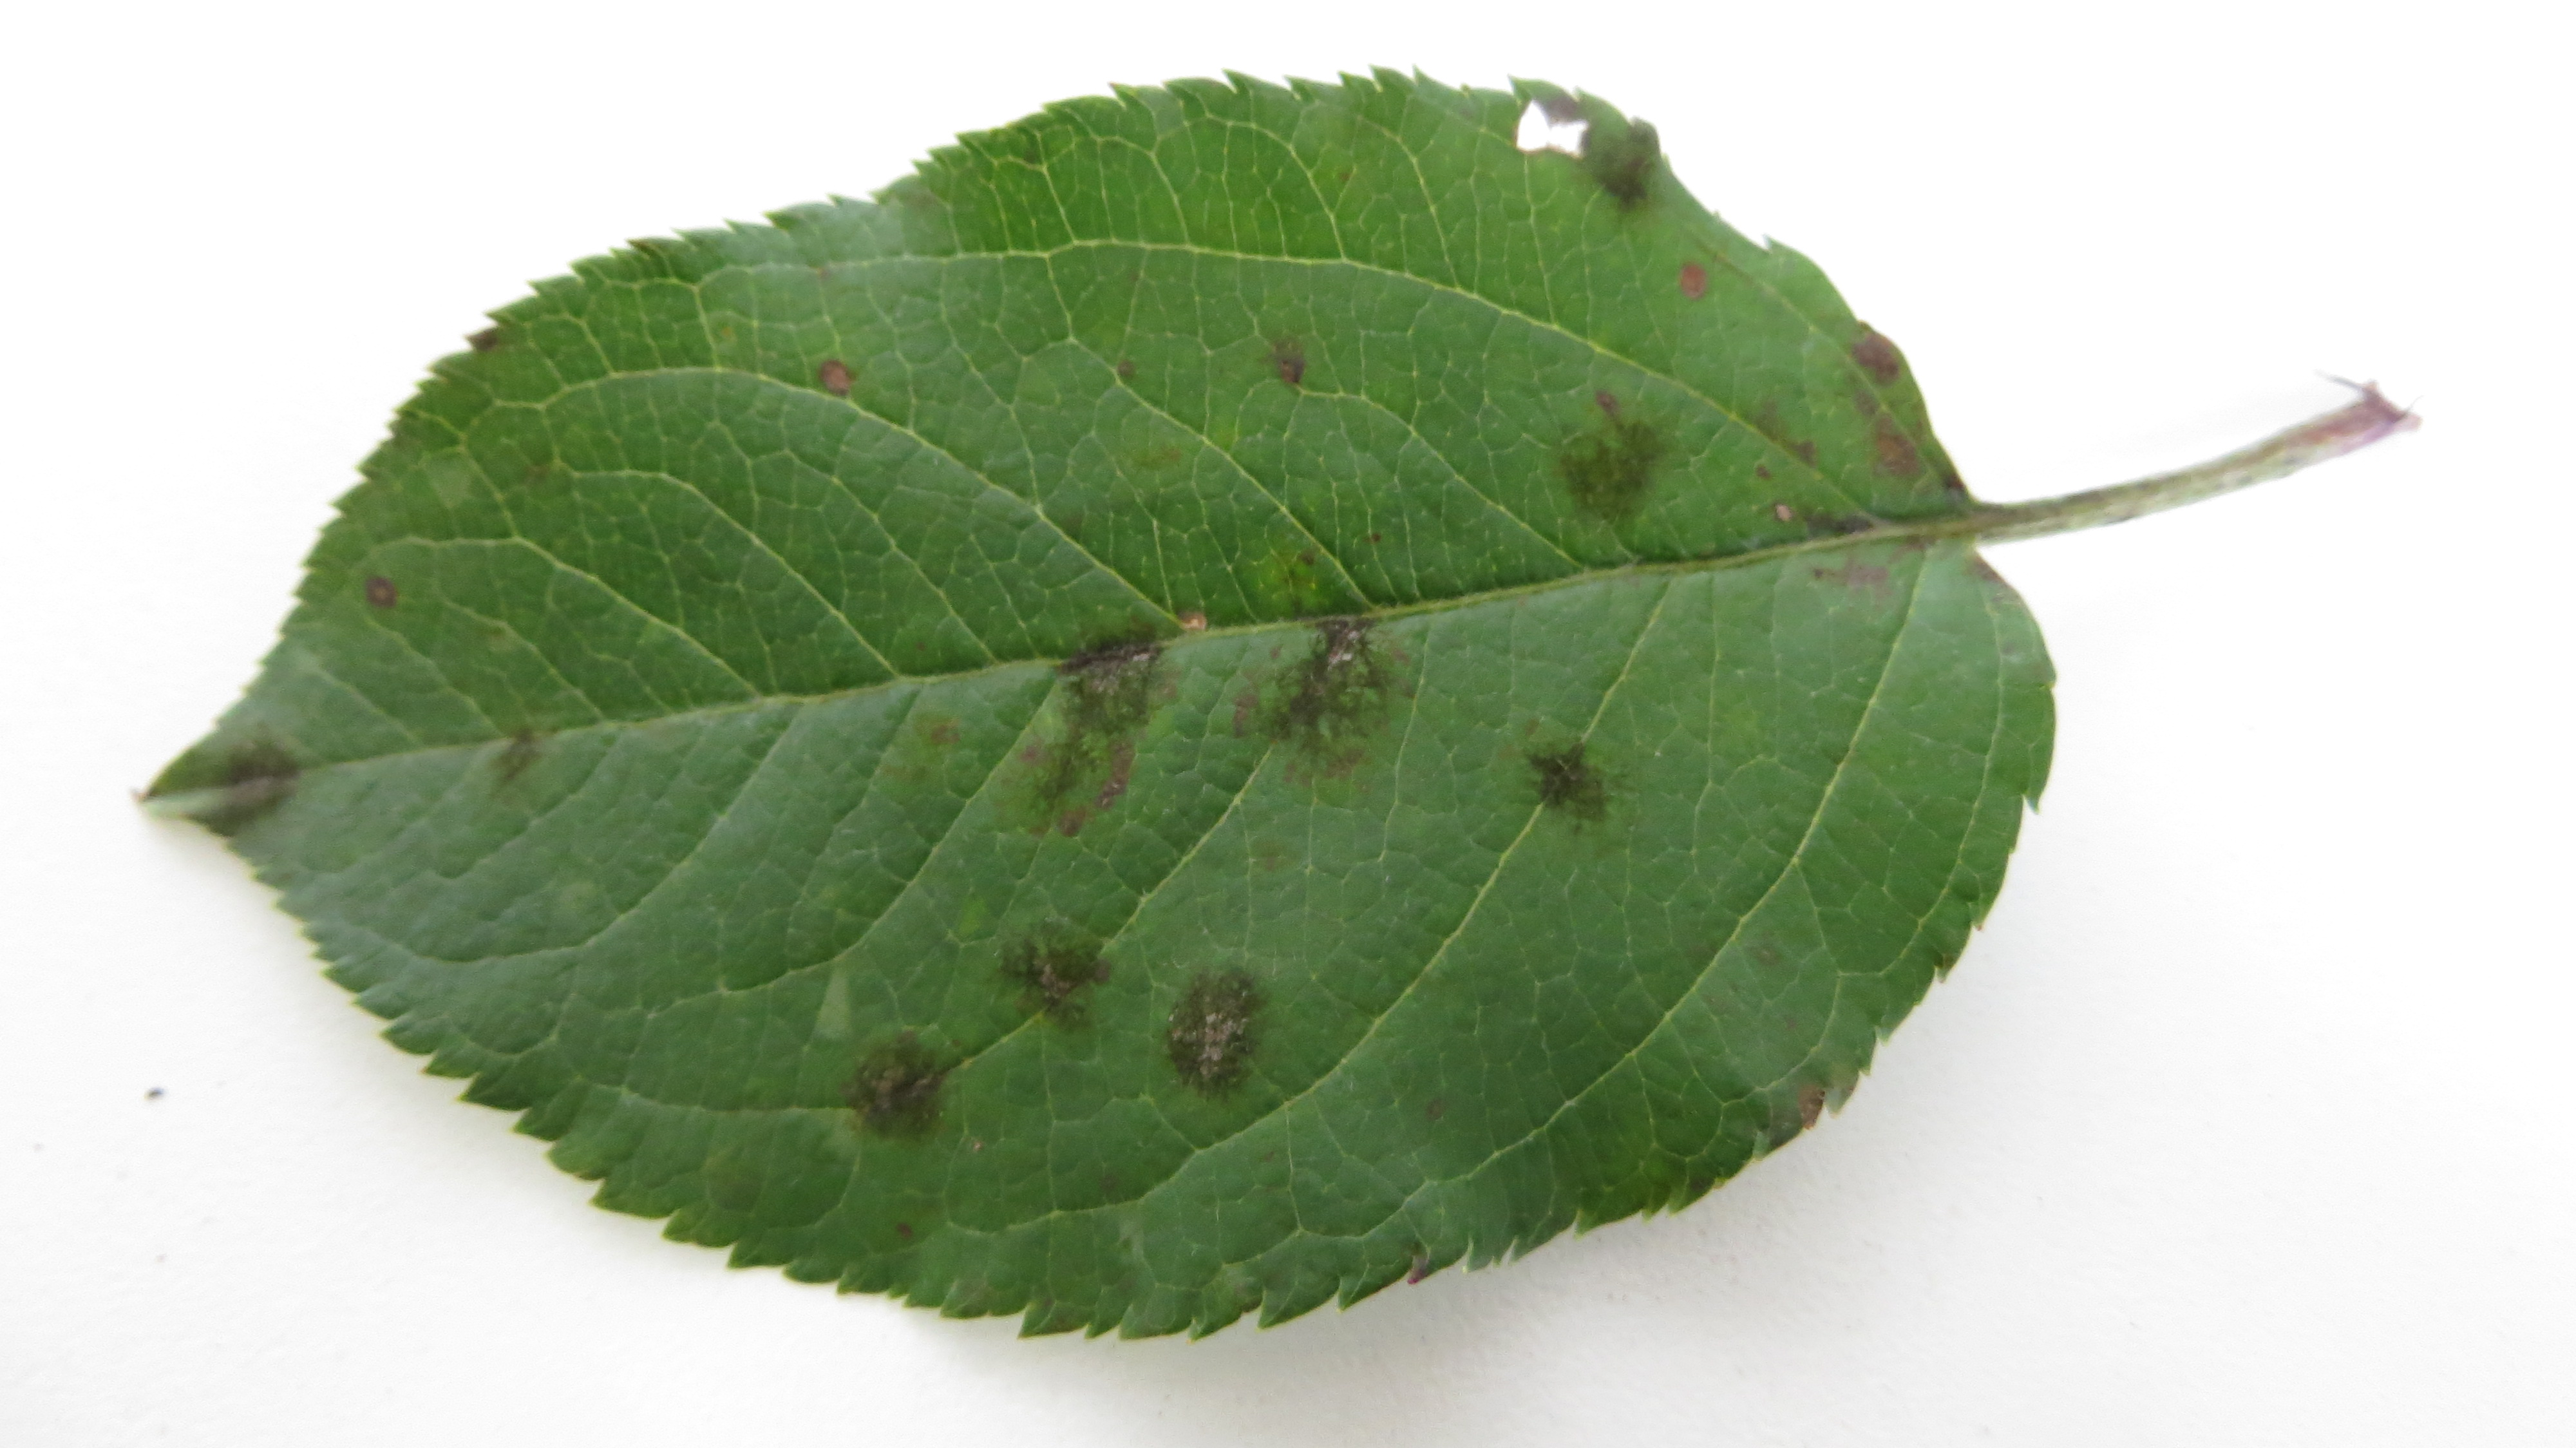sarna: (1249, 586, 1426, 782), (1146, 947, 1284, 1101), (1548, 374, 1674, 540), (1054, 597, 1175, 738), (842, 1013, 957, 1151), (994, 905, 1116, 1034), (191, 722, 311, 848), (1509, 708, 1626, 830), (1035, 728, 1146, 839), (1571, 115, 1674, 216), (1764, 487, 1886, 570), (481, 697, 570, 805), (1246, 308, 1329, 398), (1845, 310, 1913, 391), (1854, 412, 1928, 481), (350, 545, 412, 621), (810, 345, 865, 402)
